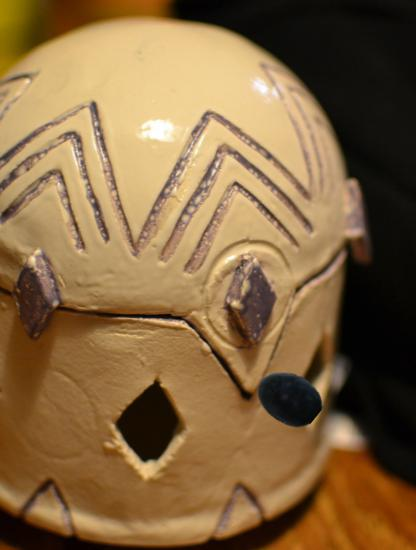Blueberry: (256, 365, 322, 431)
